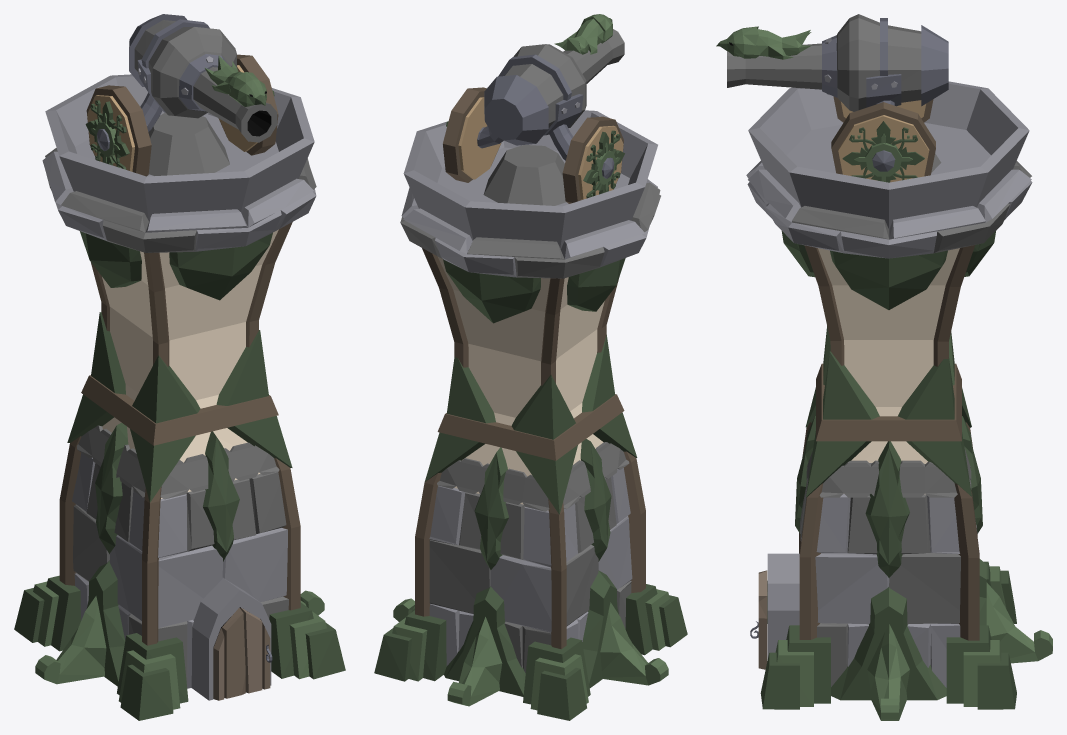
Rendered from _Cannon_tower_LVL_3.fbx.
3 views of the same model, side by side, from view 1: azimuth 30°, elevation 25°; view 2: azimuth 150°, elevation 25°; view 3: azimuth 270°, elevation 25° (orthographic). The views are drawn at different scales.
Parts seen in each view (by area): view 1: Cannon_tower_LVL_3; view 2: Cannon_tower_LVL_3; view 3: Cannon_tower_LVL_3.
Boxes of the visible parts, <box> form: Cannon_tower_LVL_3: <box>14,14,345,720</box>; Cannon_tower_LVL_3: <box>374,14,687,720</box>; Cannon_tower_LVL_3: <box>716,14,1052,720</box>.
Bounding box in the file's own units: 690 × 1488 × 709.
